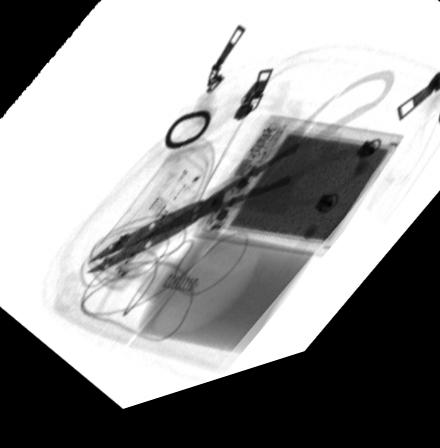Powerbank: (191, 125, 409, 282)
Scissors: (86, 95, 394, 280)
